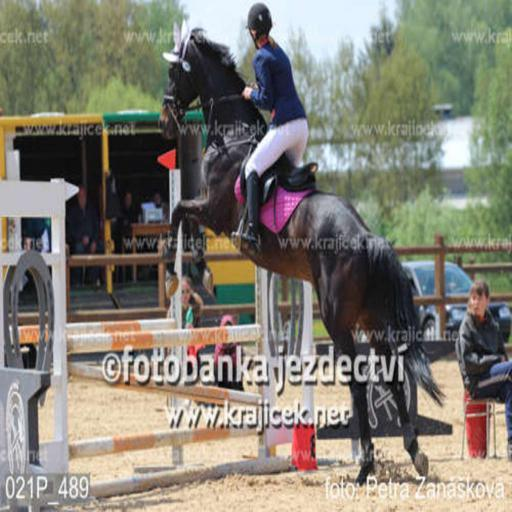Horse: (162, 12, 445, 482)
